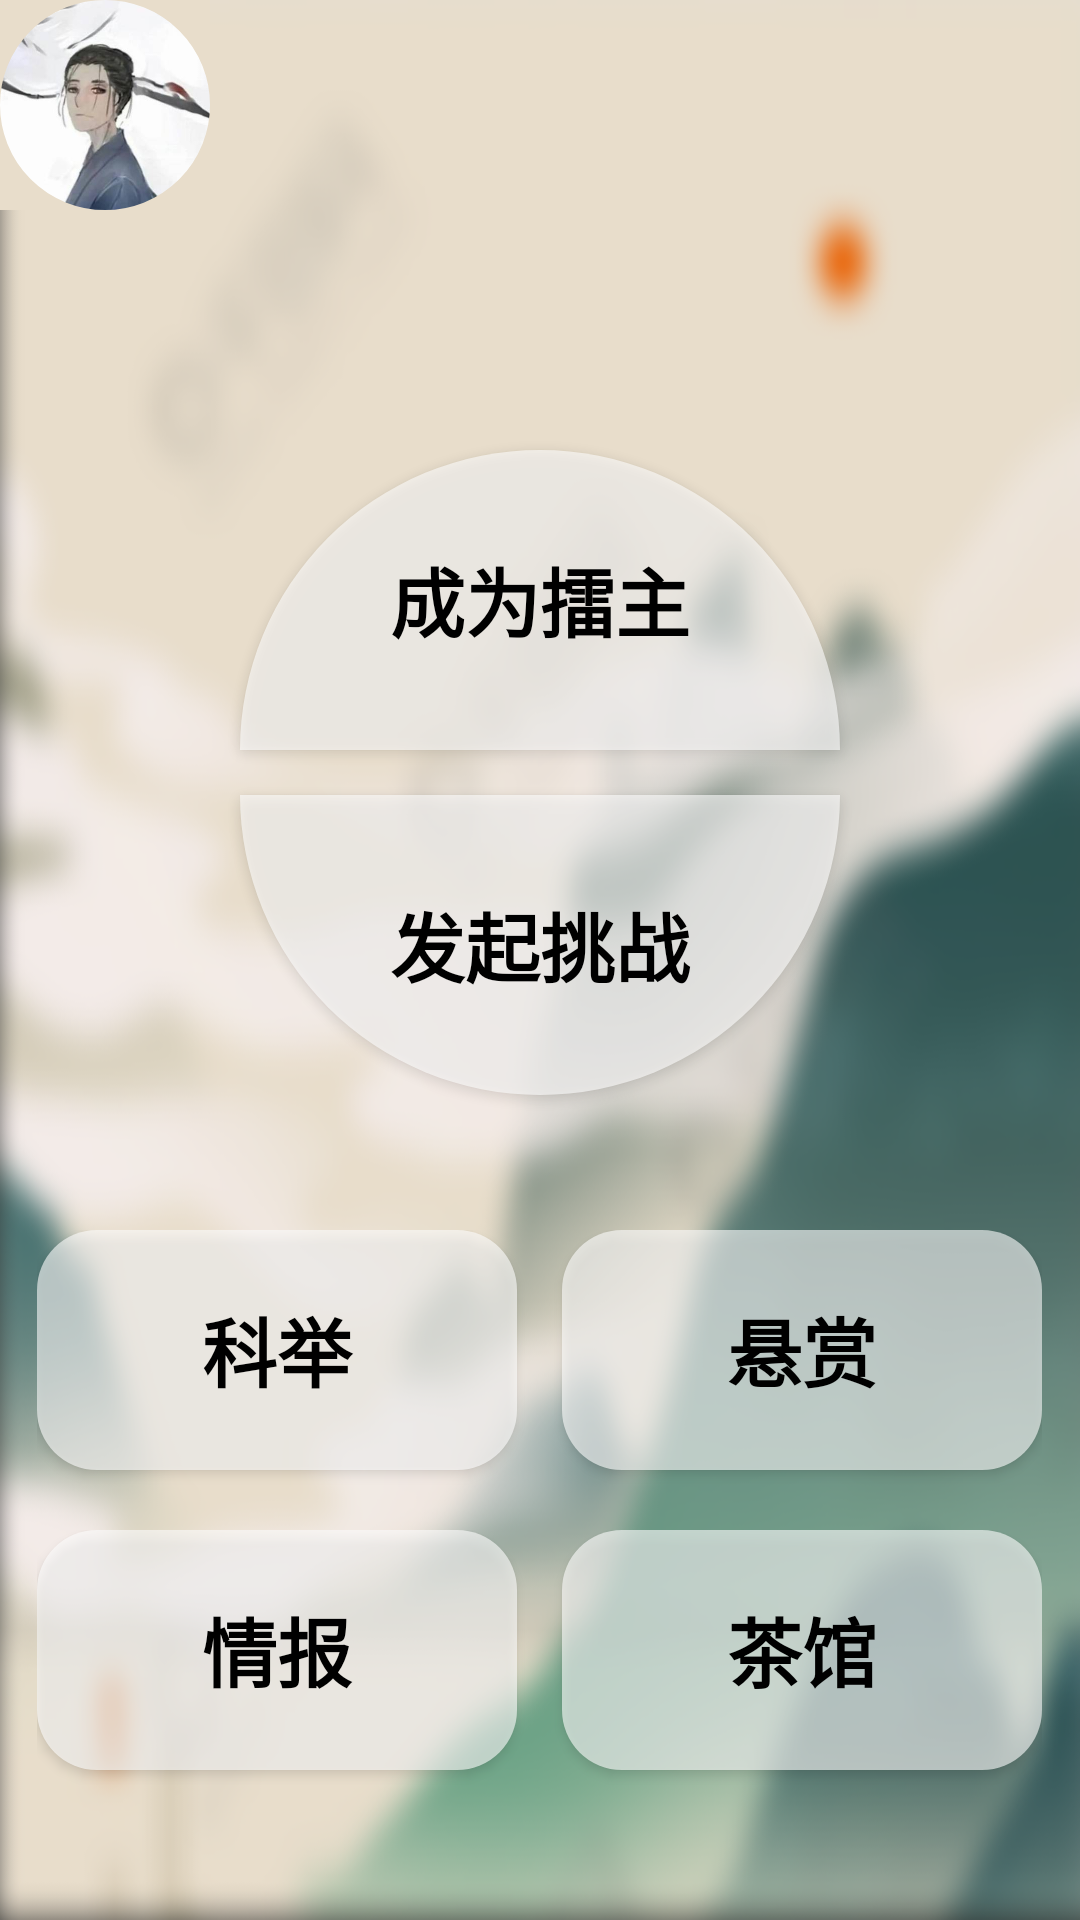

Icons on this 1080px×1920px Android screen, each with its box as rect(x1, y1, x2, y2):
circle images: rect(0, 0, 210, 210)
